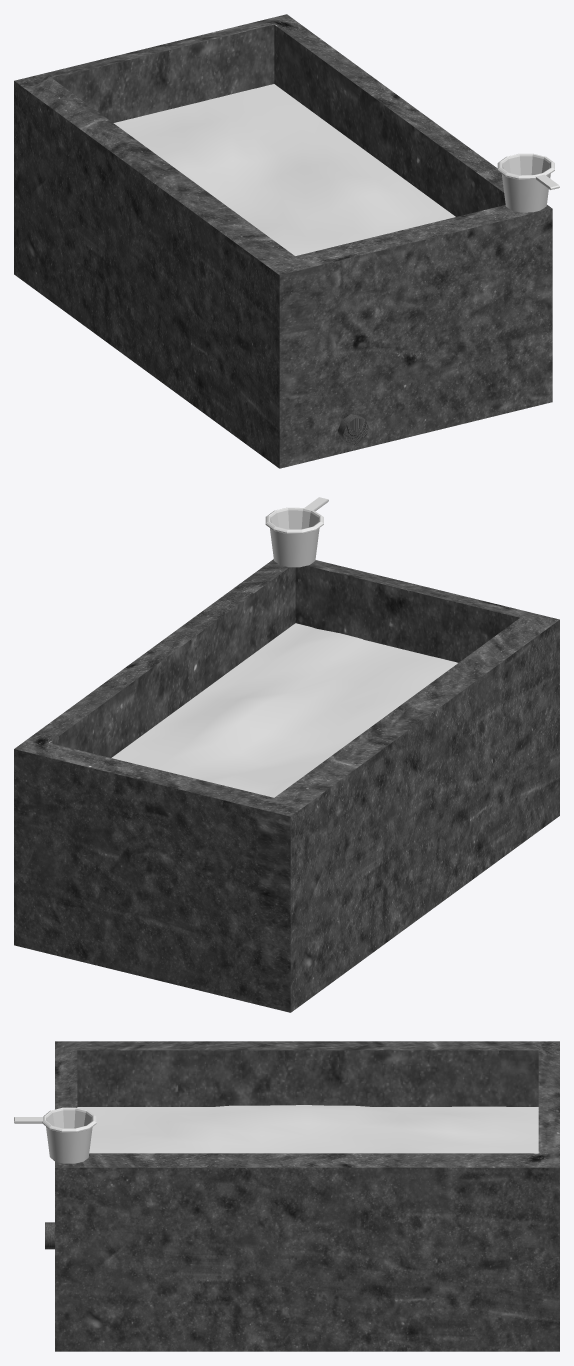
File: bathtub_tester.fbx
3 renders of one model, top to bottom at view 1: azimuth 30°, elevation 25°; view 2: azimuth 150°, elevation 25°; view 3: azimuth 270°, elevation 25°, orthographic. The views are drawn at different scales.
Visible parts, largest first — view 1: bathtub, Plane004, Cylinder010, Cylinder002; view 2: bathtub, Plane004, Cylinder010; view 3: bathtub, Plane004, Cylinder010.
Part boxes in pixels (x1,y1,x2,y2): bathtub: (14,14,552,468); Plane004: (113,84,455,255); Cylinder010: (497,153,559,212); Cylinder002: (338,414,369,445); bathtub: (14,559,559,1012); Plane004: (111,623,457,797); Cylinder010: (265,497,328,567); bathtub: (55,1041,559,1351); Plane004: (77,1105,538,1153); Cylinder010: (14,1107,96,1163).
Size of the model in its own units: 134 by 240 by 109.
1 material, 1 textured.
